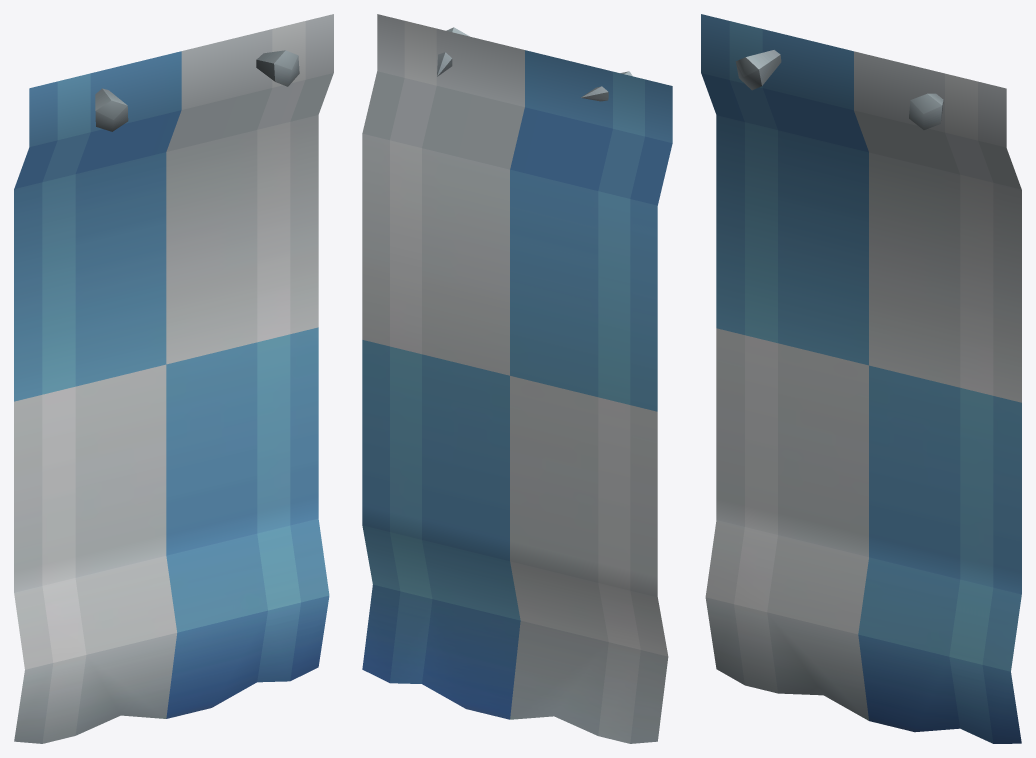
The model's file is banner_patterna_blue.glb.
The picture shows the model from 3 angles, left to right: view 1: azimuth 30°, elevation 25°; view 2: azimuth 150°, elevation 25°; view 3: azimuth 330°, elevation 25°; orthographic projection. The views are drawn at different scales.
Parts seen in each view (by area): view 1: banner_patternA_blue; view 2: banner_patternA_blue; view 3: banner_patternA_blue.
Boxes of the visible parts, box(x1,y1,x2,y2) form: banner_patternA_blue: box(14, 14, 333, 743); banner_patternA_blue: box(362, 14, 672, 743); banner_patternA_blue: box(701, 14, 1021, 743).
Size of the model in its own units: 1.5 by 3.2 by 0.3117.
1 material, 1 textured.
